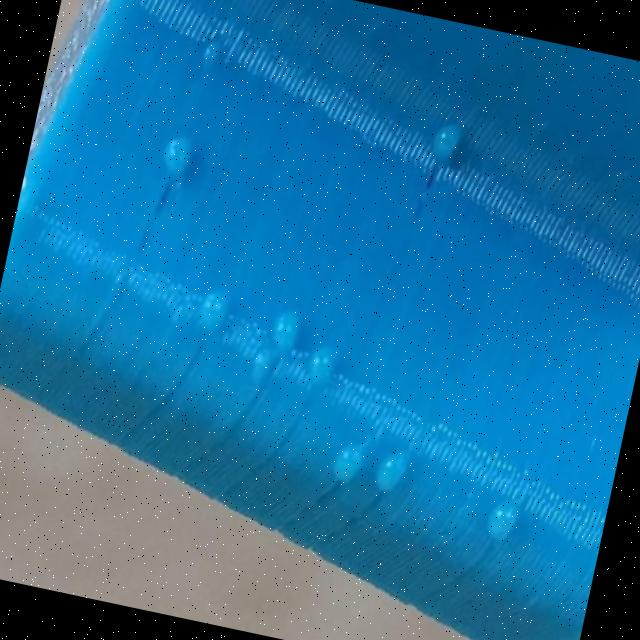blobs: (362, 439, 417, 503), (477, 490, 522, 549), (330, 431, 370, 488), (195, 284, 238, 335), (300, 341, 346, 386), (156, 124, 197, 174), (267, 302, 303, 355), (426, 120, 467, 163), (194, 36, 228, 70), (248, 352, 276, 384)
